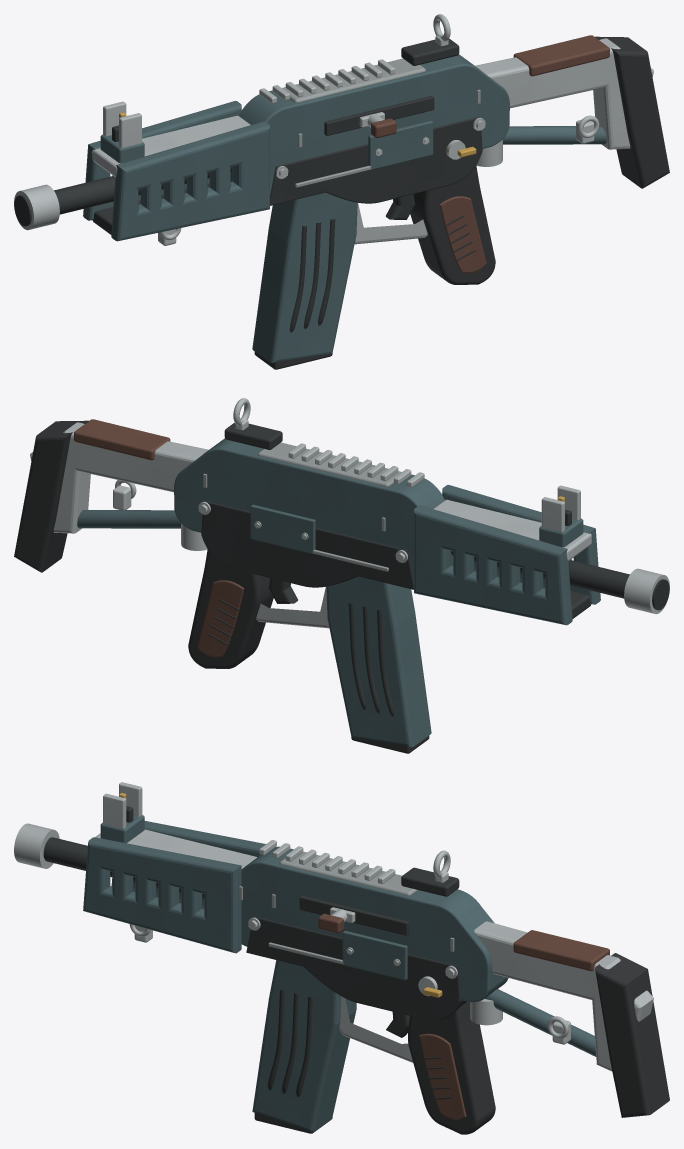
Rendered from gorgehold-survivor-gallery-and-operations-cliffwatch-s-da7613e3__32847.glb.
The picture shows the model from 3 angles, top to bottom: view 1: azimuth 30°, elevation 25°; view 2: azimuth 150°, elevation 25°; view 3: azimuth 330°, elevation 25°; orthographic projection.
Visible parts, largest first — view 1: cliffwatch-scout-carbine, magazine, stock, stock-gun-rubber, stock-gun-red, magazine-gun-dark, stock-gun-blue, trigger; view 2: cliffwatch-scout-carbine, magazine, stock, stock-gun-rubber, stock-gun-red, stock-gun-blue, magazine-gun-dark, trigger; view 3: cliffwatch-scout-carbine, magazine, stock-gun-rubber, stock, stock-gun-red, magazine-gun-dark, stock-gun-blue.
Boxes of the visible parts, x1,y1,x2,y2 form: cliffwatch-scout-carbine: (14,14,509,284); magazine: (252,192,357,363); stock: (475,38,653,149); stock-gun-rubber: (595,36,669,188); stock-gun-red: (513,35,609,76); magazine-gun-dark: (289,219,335,332); stock-gun-blue: (502,126,606,144); trigger: (386,194,415,219); cliffwatch-scout-carbine: (174,398,669,668); magazine: (326,576,431,747); stock: (30,422,208,533); stock-gun-rubber: (14,420,88,572); stock-gun-red: (74,419,170,460); stock-gun-blue: (77,510,181,528); magazine-gun-dark: (348,603,394,716); trigger: (268,578,297,603); cliffwatch-scout-carbine: (14,782,508,1134); magazine: (252,960,356,1131); stock-gun-rubber: (595,953,669,1117); stock: (474,921,653,1071); stock-gun-red: (513,930,609,971); magazine-gun-dark: (267,989,313,1096); stock-gun-blue: (485,989,596,1056).
Size of the model in its own units: 1.36 by 0.62 by 0.176.
Materials: 7 (5 with a texture image).
